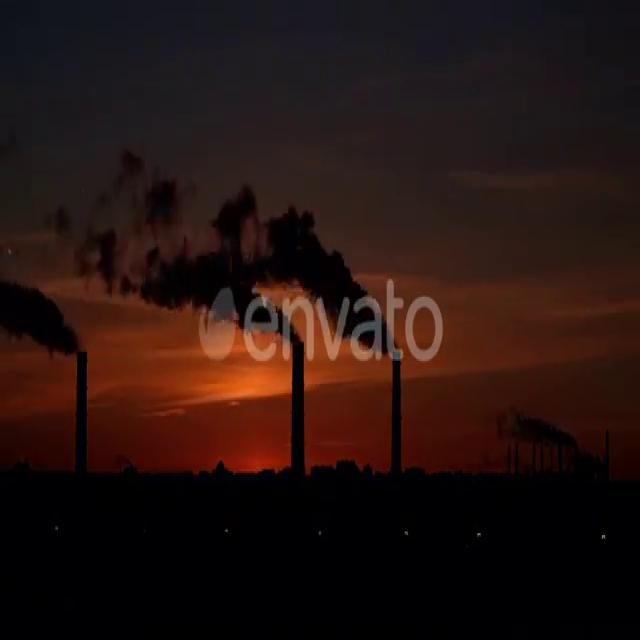smoke: (82, 174, 296, 343), (224, 197, 390, 354), (0, 281, 77, 352)
